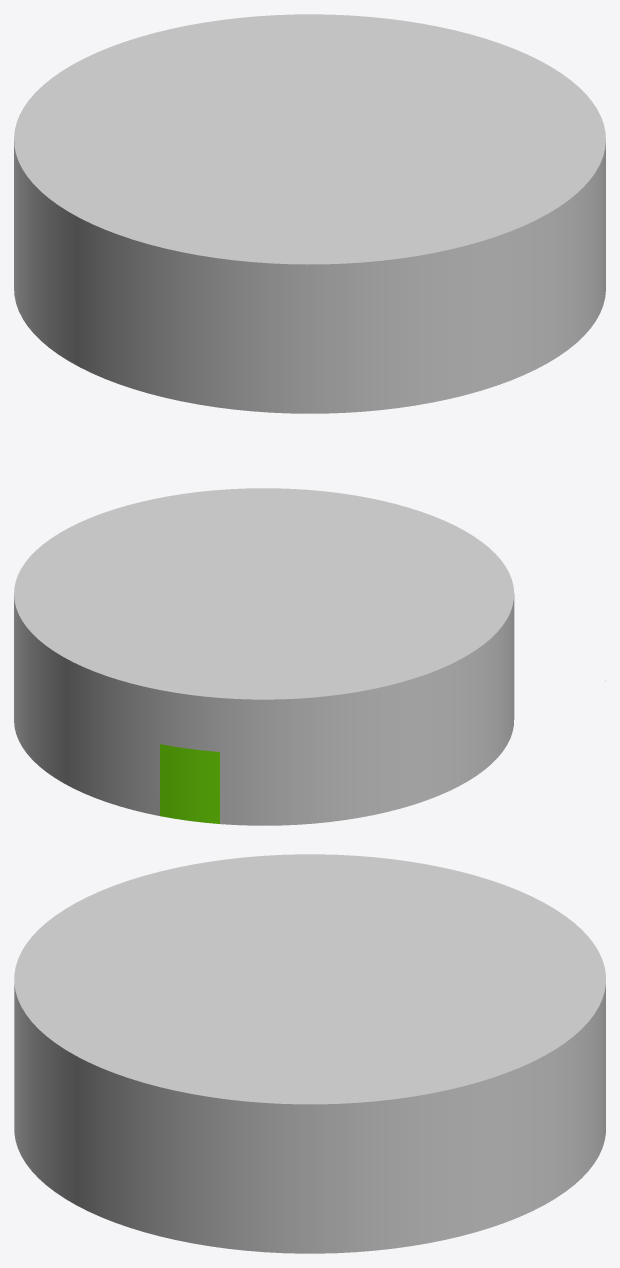
The model's file is building.fbx.
The picture shows the model from 3 angles, top to bottom: view 1: azimuth 30°, elevation 25°; view 2: azimuth 150°, elevation 25°; view 3: azimuth 270°, elevation 25°; orthographic projection. The views are drawn at different scales.
Parts seen in each view (by area): view 1: Group2, Group1; view 2: Group2, Group1, Group3; view 3: Group2, Group1.
Boxes of the visible parts, box(x1,y1,x2,y2) form: Group2: box(23, 18, 596, 260); Group1: box(14, 14, 605, 413); Group2: box(22, 491, 506, 696); Group1: box(14, 488, 514, 825); Group3: box(160, 744, 219, 823); Group2: box(23, 858, 596, 1100); Group1: box(14, 854, 605, 1253).
Size of the model in its own units: 1258 by 350 by 1258.
